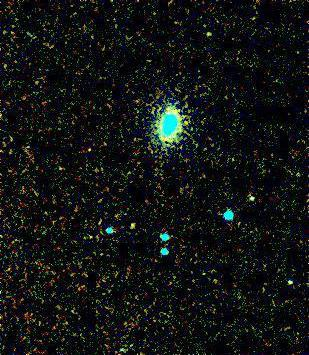star: (120, 211, 150, 241)
